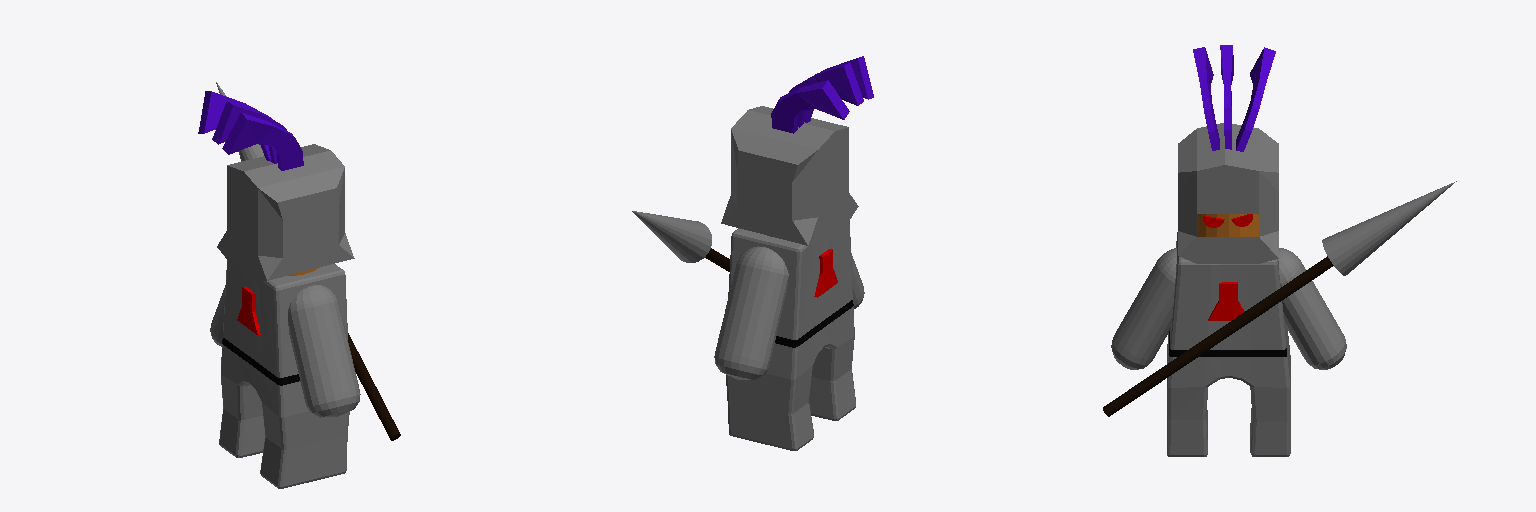
Rendered from knight.obj.
The picture shows the model from 3 angles: view 1: azimuth 30°, elevation 25°; view 2: azimuth 150°, elevation 25°; view 3: azimuth 270°, elevation 25°; orthographic projection.
Visible parts, largest first — view 1: knight; view 2: knight; view 3: knight.
Part boxes in pixels (bbox=[...]): knight: bbox=[198, 82, 400, 488]; knight: bbox=[632, 56, 873, 450]; knight: bbox=[1103, 45, 1456, 456].
Bounding box in the file's own units: 0.9117 × 2.41 × 2.09.